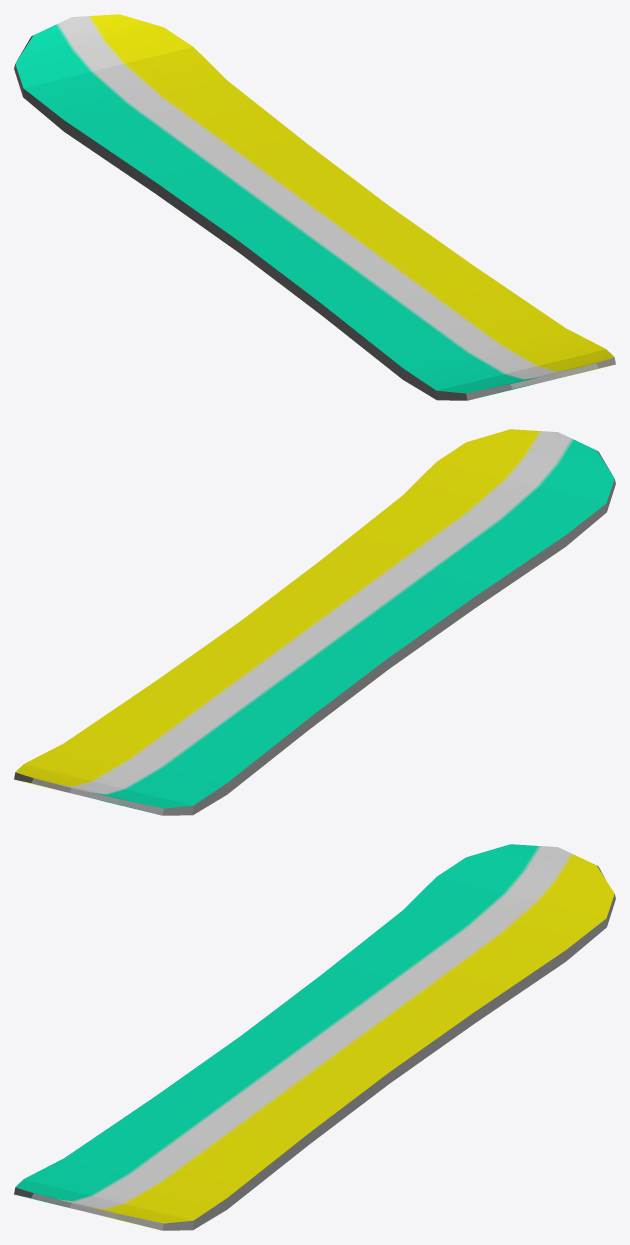
Rendered from SM_Prop_Snowboard_06.glb.
3 renders of one model, top to bottom at view 1: azimuth 30°, elevation 25°; view 2: azimuth 150°, elevation 25°; view 3: azimuth 330°, elevation 25°, orthographic.
Visible parts, largest first — view 1: SM_Prop_Snowboard_06; view 2: SM_Prop_Snowboard_06; view 3: SM_Prop_Snowboard_06.
Part boxes in pixels (x1,y1,x2,y2): SM_Prop_Snowboard_06: [14, 14, 615, 400]; SM_Prop_Snowboard_06: [14, 429, 615, 815]; SM_Prop_Snowboard_06: [14, 844, 615, 1230].
Size of the model in its own units: 0.3439 by 0.0787 by 1.72.
Materials: 1 (1 with a texture image).
